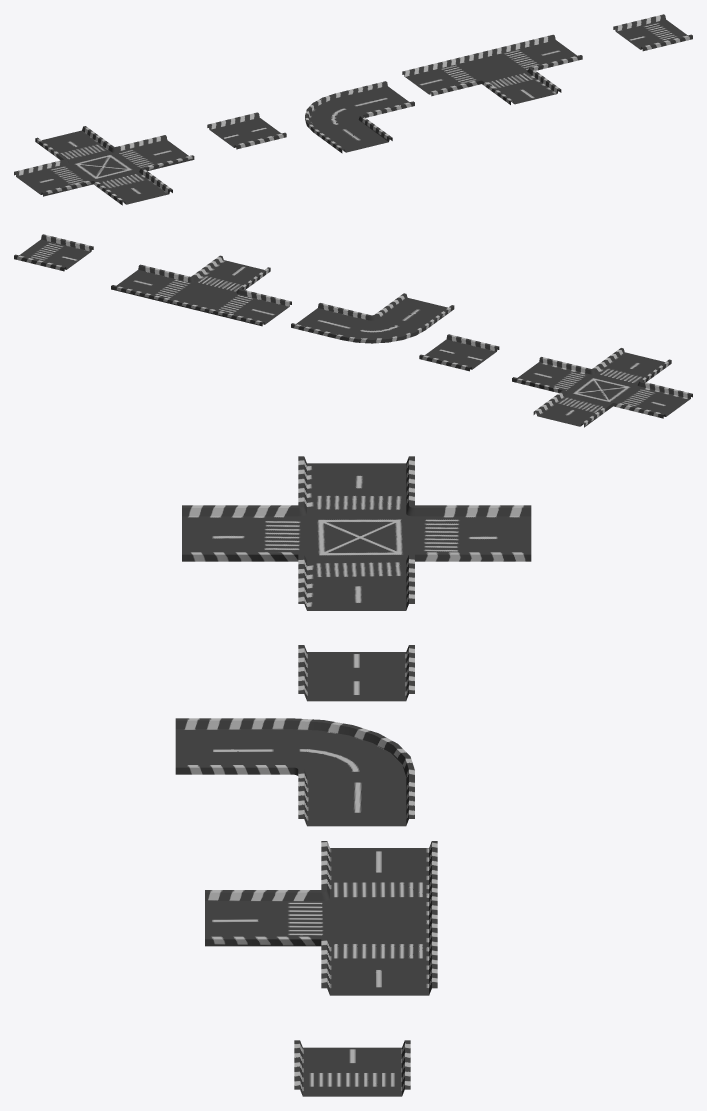
The model's file is ModularRoad.fbx.
3 views of the same model, one above another, from view 1: azimuth 30°, elevation 25°; view 2: azimuth 150°, elevation 25°; view 3: azimuth 270°, elevation 25° (orthographic). The views are drawn at different scales.
Visible parts, largest first — view 1: Main_Road.004, Main_Road.007, Main_Road.001, Main_Road.006, Main_Road; view 2: Main_Road.004, Main_Road.007, Main_Road.001, Main_Road, Main_Road.006; view 3: Main_Road.004, Main_Road.007, Main_Road.001, Main_Road.006, Main_Road.
Boxes of the visible parts, x1,y1,x2,y2 form: Main_Road.004: [14, 126, 194, 205]; Main_Road.007: [402, 34, 582, 104]; Main_Road.001: [305, 81, 414, 153]; Main_Road.006: [613, 14, 692, 51]; Main_Road: [207, 112, 286, 149]; Main_Road.004: [512, 348, 692, 427]; Main_Road.007: [111, 255, 291, 326]; Main_Road.001: [291, 293, 454, 343]; Main_Road: [419, 334, 499, 371]; Main_Road.006: [14, 234, 93, 271]; Main_Road.004: [182, 456, 531, 610]; Main_Road.007: [205, 841, 437, 995]; Main_Road.001: [175, 718, 414, 826]; Main_Road.006: [294, 1040, 410, 1096]; Main_Road: [298, 645, 414, 701].
Size of the model in its own units: 2575 by 13.57 by 611.
